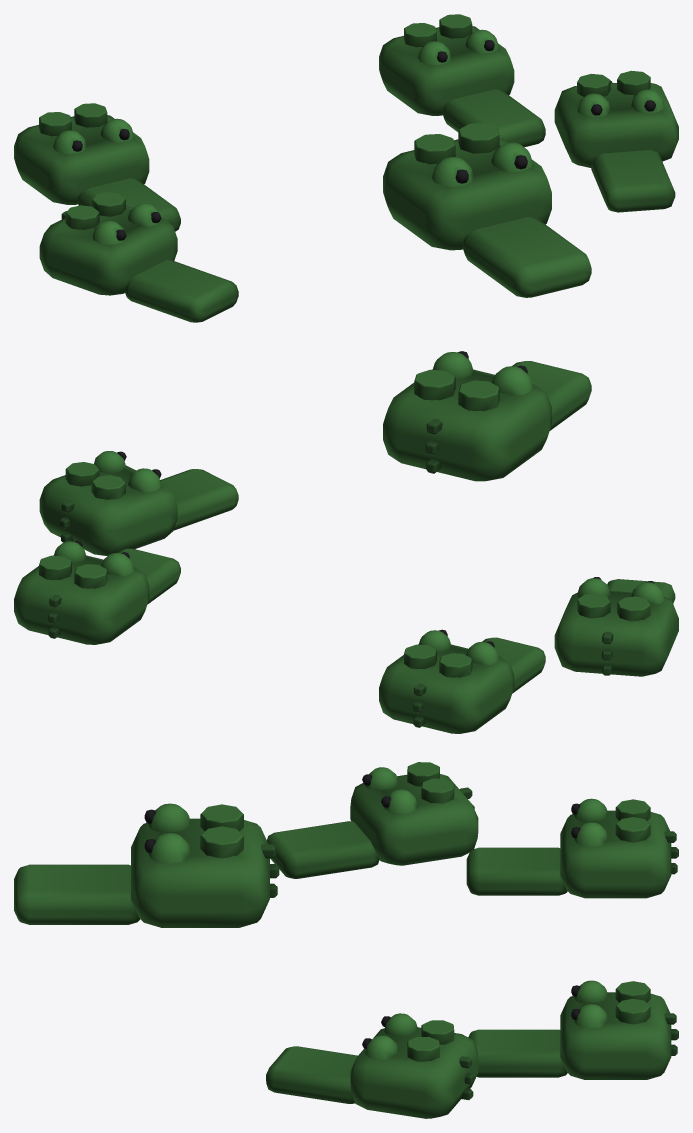
File: gator-gang-lod1.glb
3 views of the same model, one above another, from view 1: azimuth 30°, elevation 25°; view 2: azimuth 150°, elevation 25°; view 3: azimuth 270°, elevation 25° (orthographic). The views are drawn at different scales.
Parts seen in each view (by area): view 1: cap_hat, att3_hat, att2_hat, att0_hat, att1_hat; view 2: cap_hat, att2_hat, att1_hat, att0_hat, att3_hat; view 3: cap_hat, att3_hat, att1_hat, att2_hat, att0_hat.
Boxes of the visible parts, x1,y1,x2,y2 form: cap_hat: (383,123,591,297); att3_hat: (39,192,238,322); att2_hat: (554,70,678,212); att0_hat: (379,14,545,147); att1_hat: (14,103,180,231); cap_hat: (383,351,591,481); att2_hat: (39,451,238,555); att1_hat: (379,629,545,733); att0_hat: (14,540,180,644); att3_hat: (554,577,678,676); cap_hat: (14,803,279,927); att3_hat: (267,762,478,878); att1_hat: (466,798,678,898); att2_hat: (266,1013,478,1118); att0_hat: (468,980,678,1079).
Size of the model in its own units: 2.11 by 0.4957 by 1.92.
